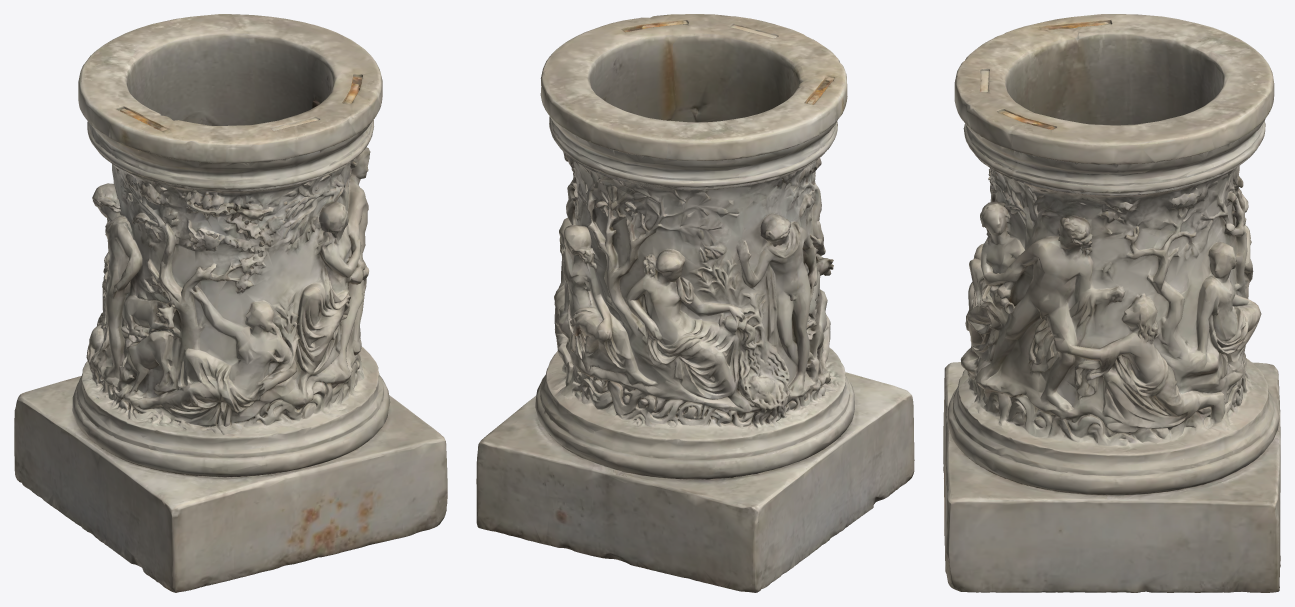
The model's file is preview.glb.
3 renders of one model, left to right at view 1: azimuth 30°, elevation 25°; view 2: azimuth 150°, elevation 25°; view 3: azimuth 270°, elevation 25°, orthographic. The views are drawn at different scales.
Parts seen in each view (by area): view 1: default_n3d; view 2: default_n3d; view 3: default_n3d.
Part boxes in pixels (x1,y1,x2,y2): default_n3d: (14,14,447,592); default_n3d: (476,14,914,592); default_n3d: (943,14,1280,592).
Size of the model in its own units: 0.7084 by 1.03 by 0.7083.
1 material, 1 textured.
